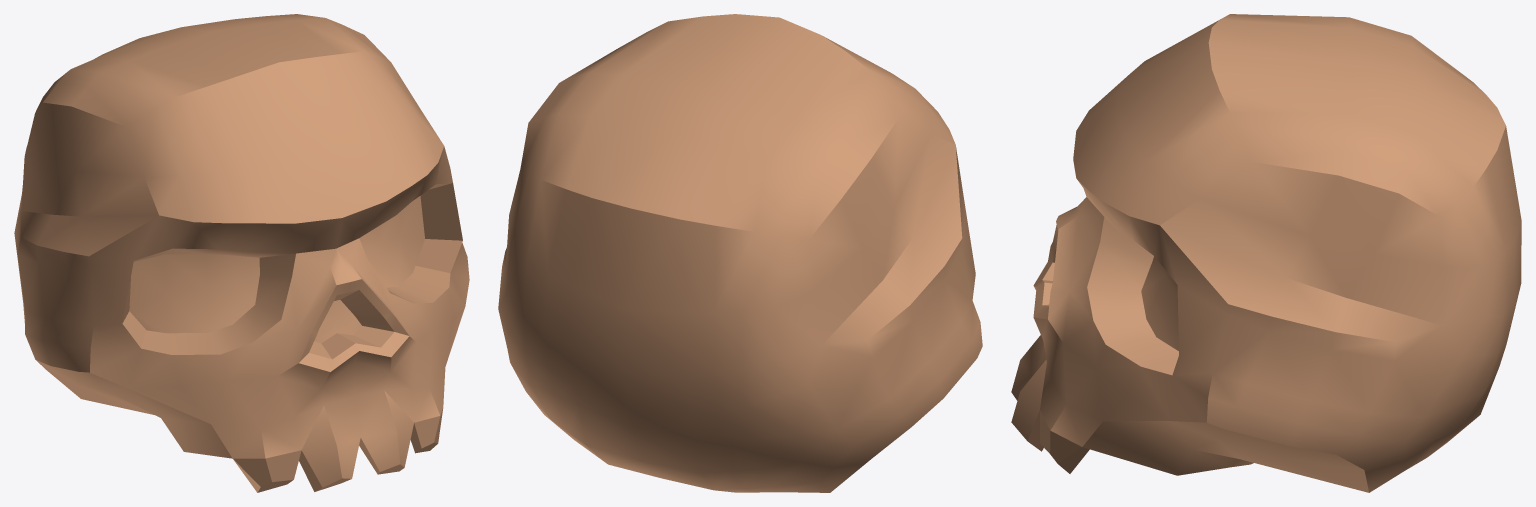
The model's file is Skull.glb.
3 views of the same model, side by side, from view 1: azimuth 30°, elevation 25°; view 2: azimuth 150°, elevation 25°; view 3: azimuth 270°, elevation 25° (orthographic). The views are drawn at different scales.
Visible parts, largest first — view 1: Prop_Skull; view 2: Prop_Skull; view 3: Prop_Skull.
Part boxes in pixels (bbox=[...]): Prop_Skull: bbox=[14, 14, 469, 492]; Prop_Skull: bbox=[498, 14, 982, 492]; Prop_Skull: bbox=[1011, 14, 1521, 492].
Bounding box in the file's own units: 0.4838 × 0.4409 × 0.5148.
Materials: 1 (1 with a texture image).
